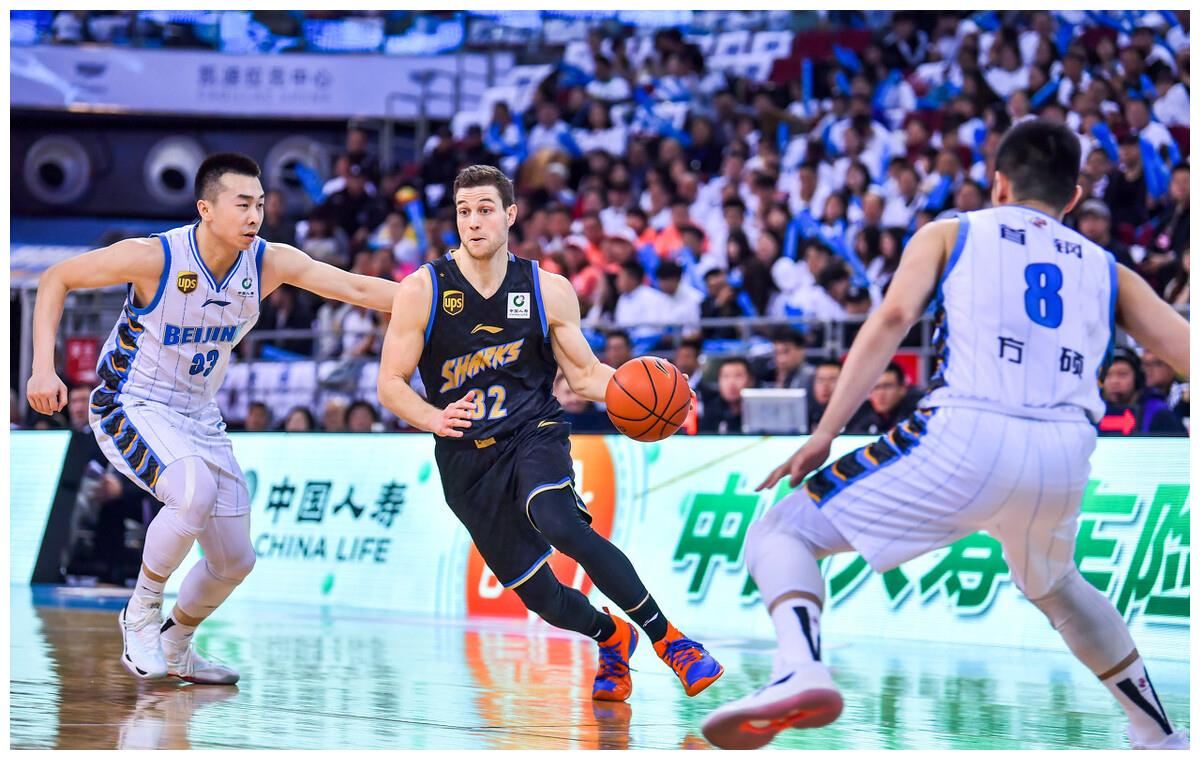ball: (606, 355, 691, 441)
